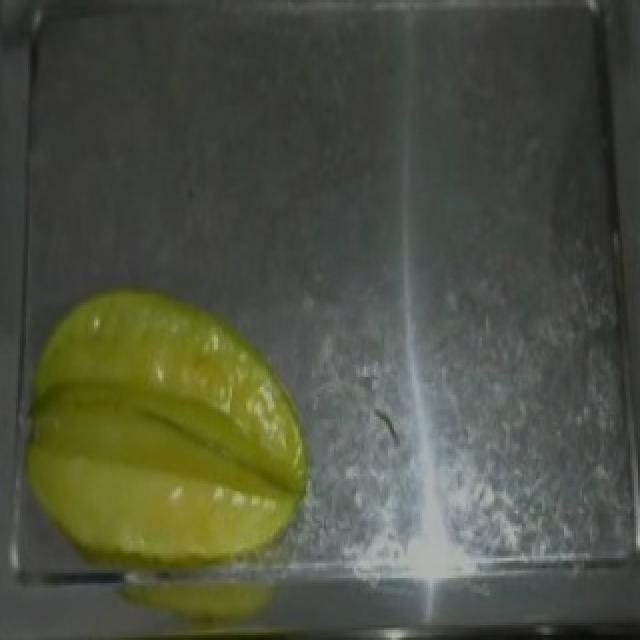fruit: (4, 270, 334, 603)
